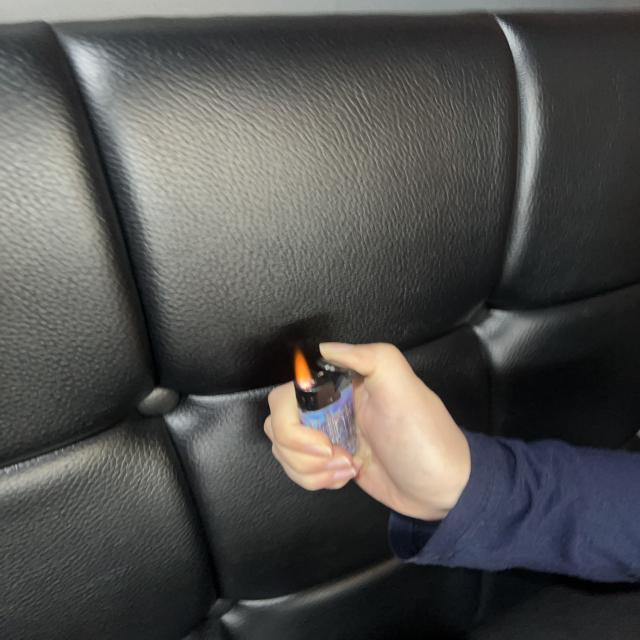fire: (293, 348, 314, 390)
